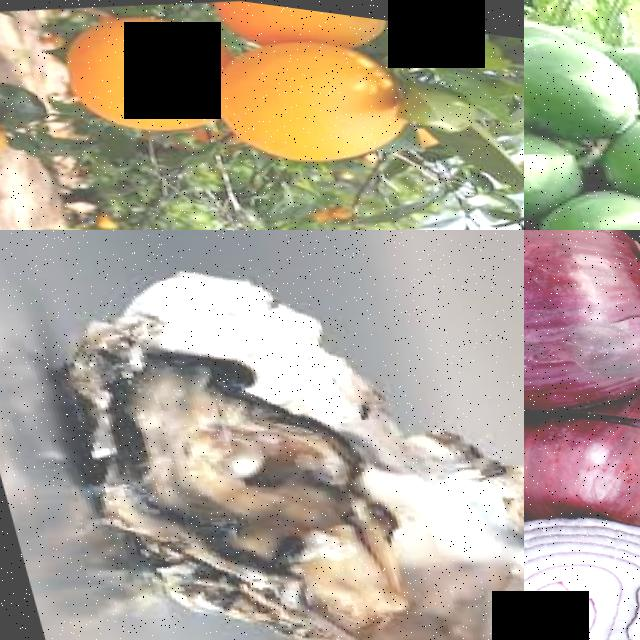onion: (524, 230, 640, 442), (524, 355, 640, 548), (524, 469, 640, 640)
orange: (200, 3, 423, 177), (42, 0, 222, 146), (200, 0, 403, 55), (0, 107, 15, 164)
oysters: (32, 230, 524, 640)
pawpaw: (524, 7, 640, 145), (524, 100, 588, 230), (524, 168, 640, 230), (588, 94, 640, 209)
